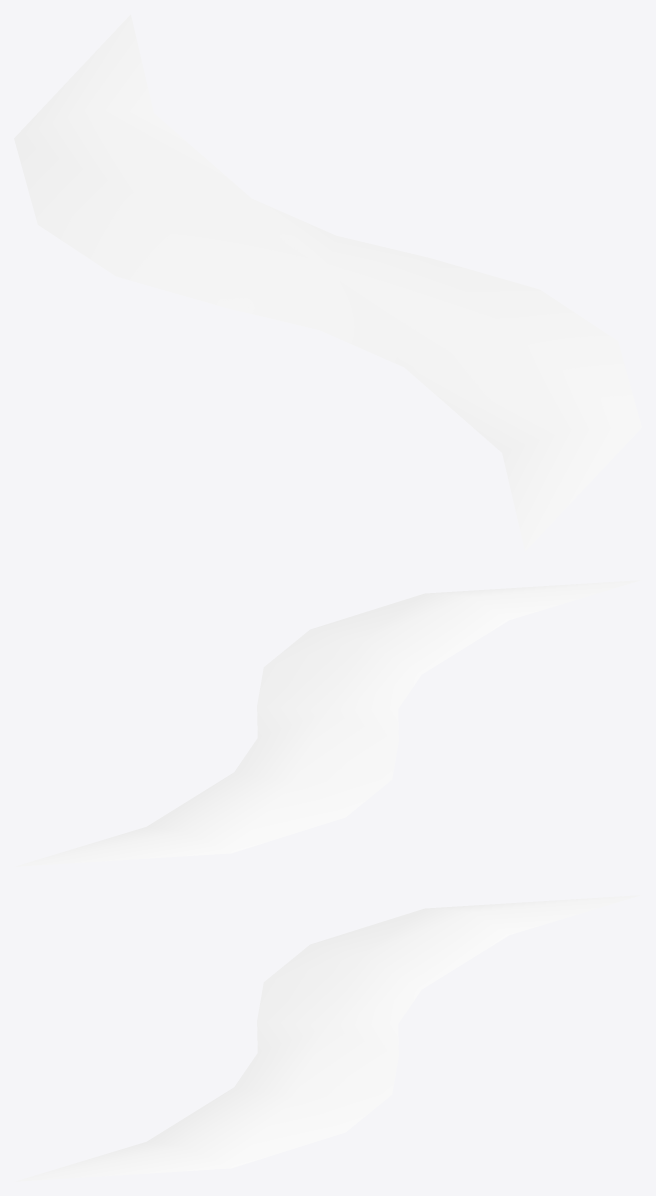
File: si_eoa_4100.glb
The picture shows the model from 3 angles, top to bottom: view 1: azimuth 30°, elevation 25°; view 2: azimuth 150°, elevation 25°; view 3: azimuth 330°, elevation 25°; orthographic projection. The views are drawn at different scales.
Parts seen in each view (by area): view 1: layer_00_si_est_0900; view 2: layer_00_si_est_0900; view 3: layer_00_si_est_0900.
Part boxes in pixels (x1=…): layer_00_si_est_0900: x1=14, y1=14, x2=641, y2=551; layer_00_si_est_0900: x1=14, y1=580, x2=641, y2=866; layer_00_si_est_0900: x1=14, y1=895, x2=641, y2=1181.
Size of the model in its own units: 11.4 by 1.21 by 40.57.
1 material, 1 textured.
